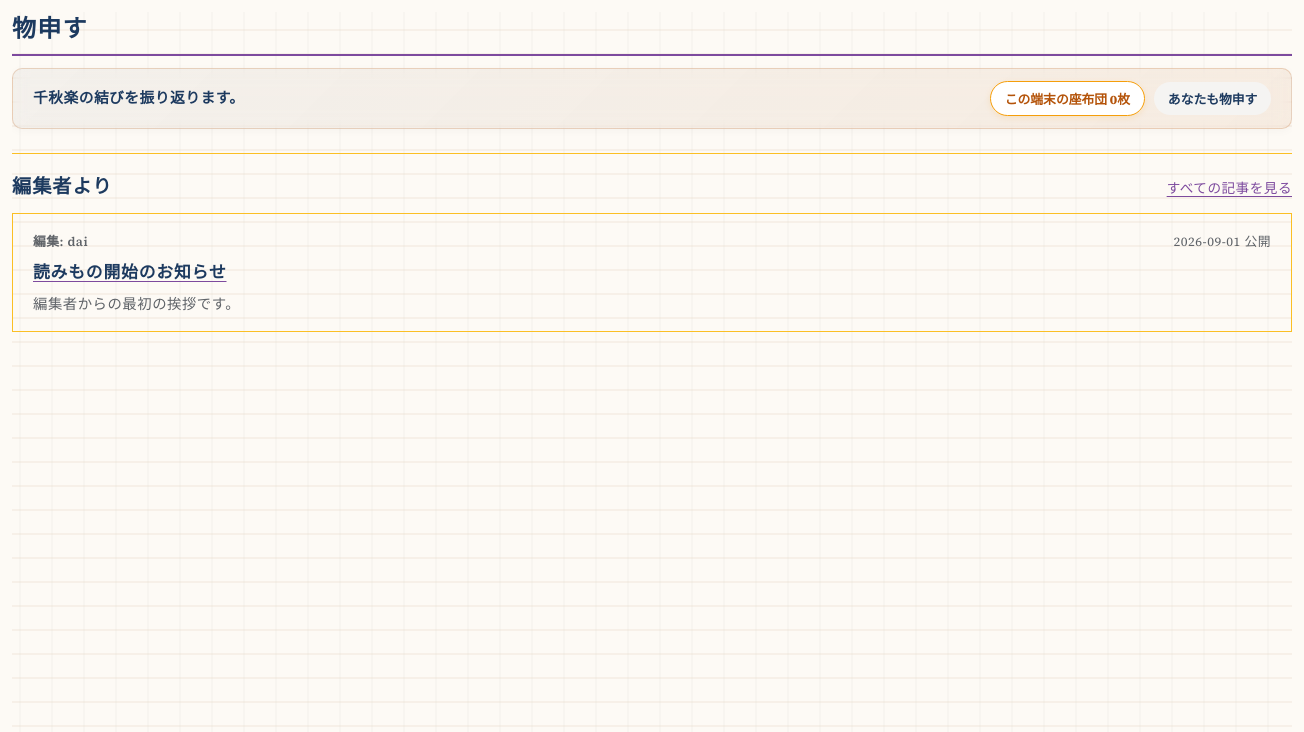
MonomosuSection › copies when native sharing is unavailable
Click the button "あなたも物申す": (1213, 98) [1154, 82, 1271, 115]
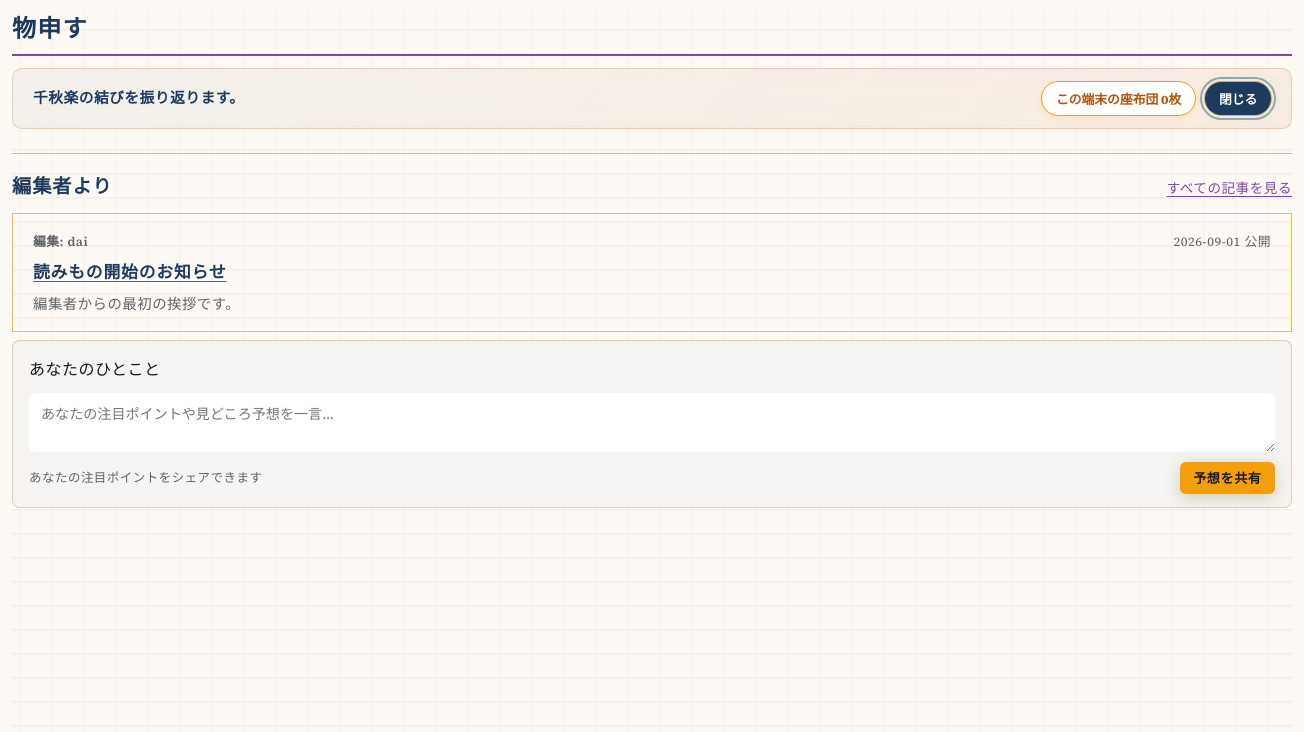
Click the button "予想を共有": (1227, 478) [1180, 462, 1275, 494]
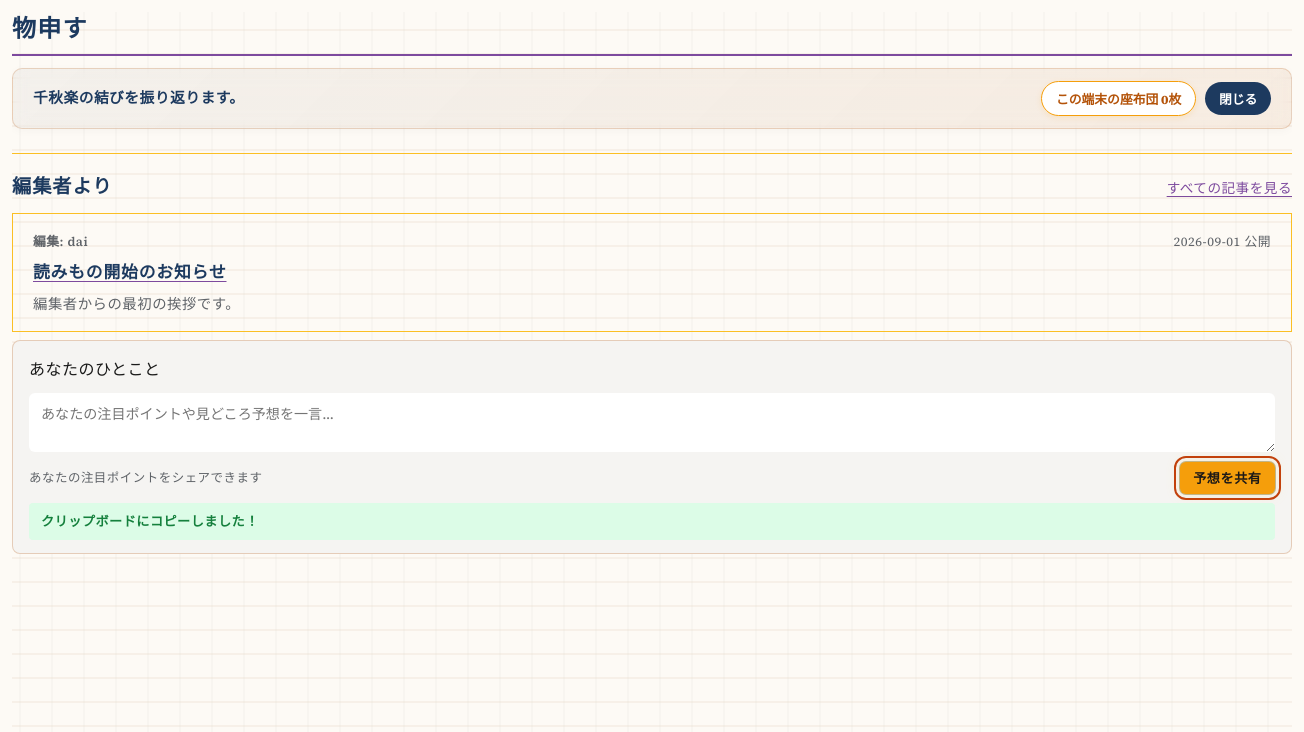
Result: the message shows "クリップボードにコピーしました" at [41, 512, 259, 530]
